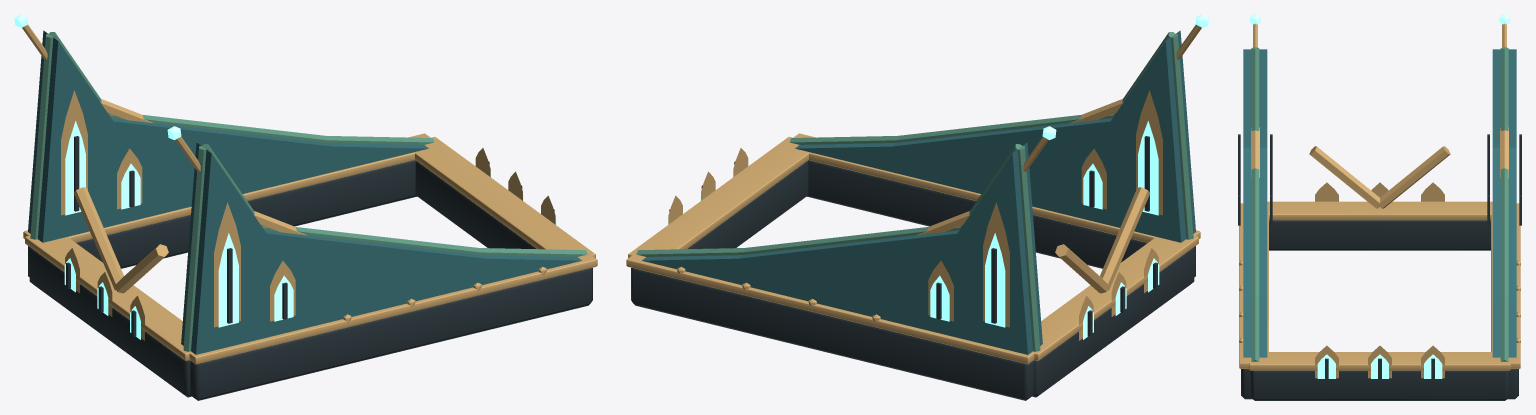
File: crown-wraith.glb
The picture shows the model from 3 angles, left to right: view 1: azimuth 30°, elevation 25°; view 2: azimuth 150°, elevation 25°; view 3: azimuth 270°, elevation 25°; orthographic projection. The views are drawn at different scales.
Parts seen in each view (by area): view 1: crown-wraith / Paint | armory deep Hanseatic enamel, crown-wraith / Structure | armory dark pressure steel, crown-wraith / Brass | armory machined champagne bronze, crown-wraith / Copper | armory oxidized steep roof, crown-wraith / Lamp | armory pale electric mint; view 2: crown-wraith / Paint | armory deep Hanseatic enamel, crown-wraith / Structure | armory dark pressure steel, crown-wraith / Brass | armory machined champagne bronze, crown-wraith / Copper | armory oxidized steep roof, crown-wraith / Lamp | armory pale electric mint; view 3: crown-wraith / Structure | armory dark pressure steel, crown-wraith / Brass | armory machined champagne bronze, crown-wraith / Paint | armory deep Hanseatic enamel, crown-wraith / Copper | armory oxidized steep roof, crown-wraith / Lamp | armory pale electric mint.
Part boxes in pixels (left/top/right/bottom): crown-wraith / Paint | armory deep Hanseatic enamel: left=28, top=30, right=581, bottom=354; crown-wraith / Structure | armory dark pressure steel: left=28, top=136, right=592, bottom=400; crown-wraith / Brass | armory machined champagne bronze: left=22, top=25, right=597, bottom=364; crown-wraith / Copper | armory oxidized steep roof: left=30, top=32, right=587, bottom=351; crown-wraith / Lamp | armory pale electric mint: left=14, top=14, right=556, bottom=339; crown-wraith / Paint | armory deep Hanseatic enamel: left=642, top=30, right=1195, bottom=354; crown-wraith / Structure | armory dark pressure steel: left=631, top=136, right=1195, bottom=400; crown-wraith / Brass | armory machined champagne bronze: left=626, top=25, right=1201, bottom=364; crown-wraith / Copper | armory oxidized steep roof: left=636, top=32, right=1193, bottom=351; crown-wraith / Lamp | armory pale electric mint: left=667, top=14, right=1209, bottom=339; crown-wraith / Structure | armory dark pressure steel: left=1238, top=134, right=1521, bottom=400; crown-wraith / Brass | armory machined champagne bronze: left=1239, top=23, right=1520, bottom=378; crown-wraith / Paint | armory deep Hanseatic enamel: left=1243, top=49, right=1516, bottom=357; crown-wraith / Copper | armory oxidized steep roof: left=1251, top=47, right=1508, bottom=361; crown-wraith / Lamp | armory pale electric mint: left=1250, top=14, right=1509, bottom=378.
Size of the model in its own units: 3.49 by 2.13 by 2.46.
